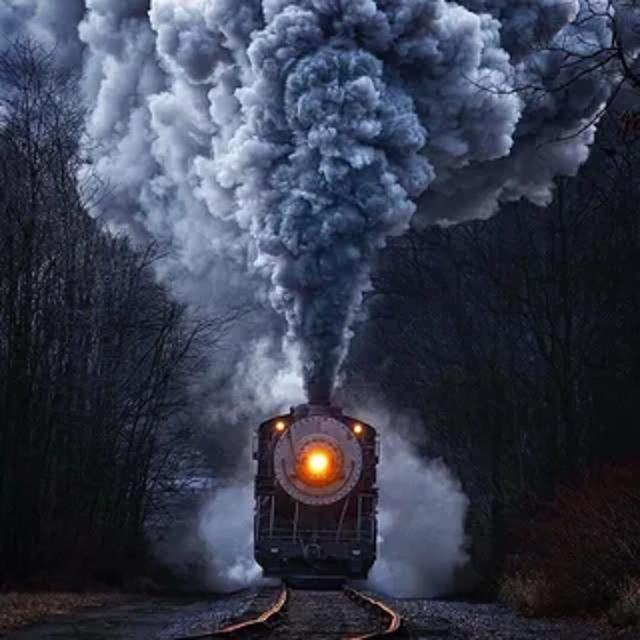Smoke: (74, 0, 592, 392)
